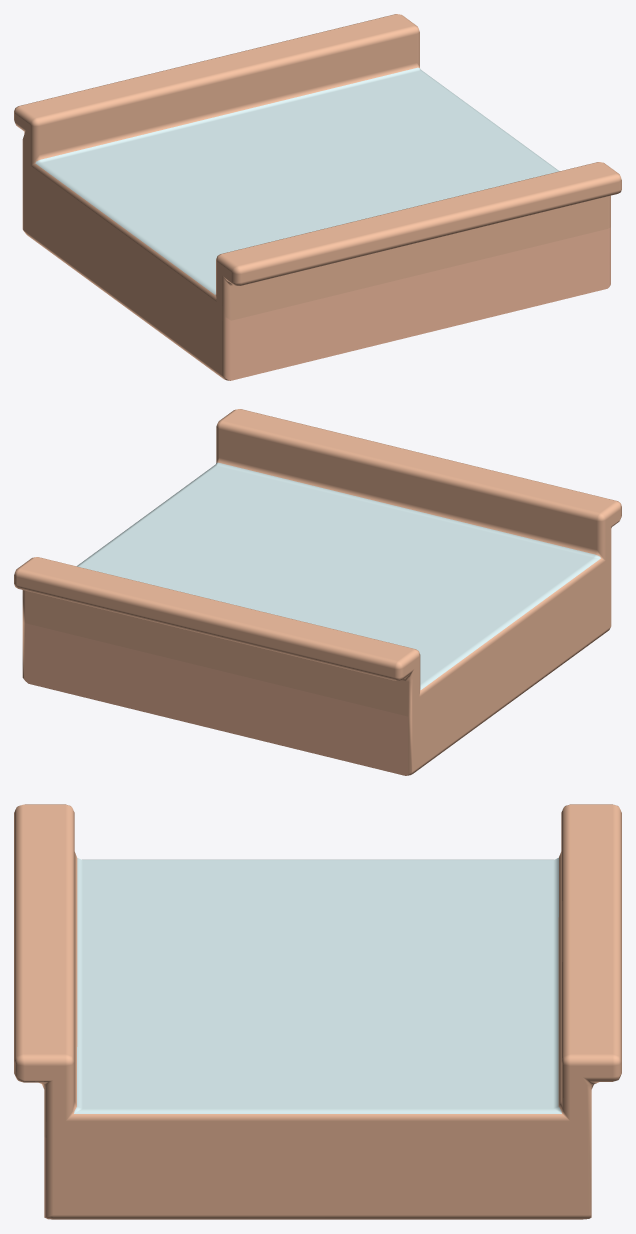
File: bridge_center_wood.glb
3 views of the same model, one above another, from view 1: azimuth 30°, elevation 25°; view 2: azimuth 150°, elevation 25°; view 3: azimuth 270°, elevation 25° (orthographic). The views are drawn at different scales.
Visible parts, largest first — view 1: bridge_center_wood; view 2: bridge_center_wood; view 3: bridge_center_wood.
Part boxes in pixels (box(x1,y1,x2,y2)): bridge_center_wood: box(14, 14, 621, 380); bridge_center_wood: box(14, 409, 621, 775); bridge_center_wood: box(14, 804, 621, 1219).
Bounding box in the file's own units: 1 × 0.3 × 1.
